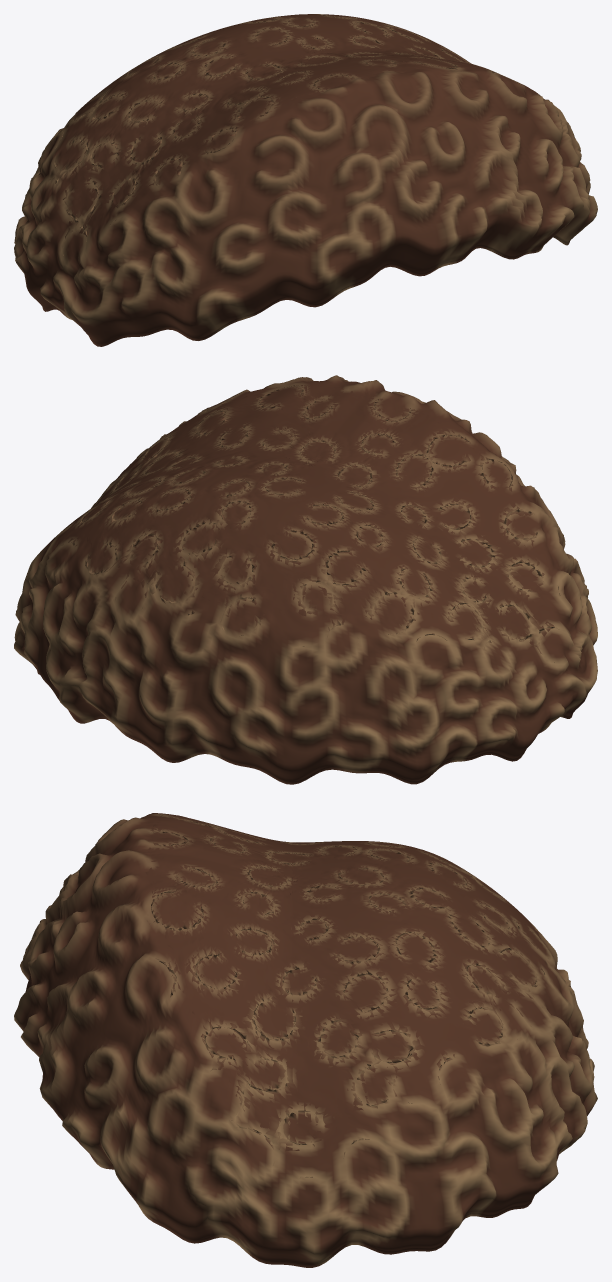
File: Highlights-6a5cc8c2790a251-hair.glb
The picture shows the model from 3 angles, top to bottom: view 1: azimuth 30°, elevation 25°; view 2: azimuth 150°, elevation 25°; view 3: azimuth 270°, elevation 25°; orthographic projection. The views are drawn at different scales.
Parts seen in each view (by area): view 1: 226 hair / Hair / sculpted afro251.001; view 2: 226 hair / Hair / sculpted afro251.001; view 3: 226 hair / Hair / sculpted afro251.001.
Part boxes in pixels (x1,y1,x2,y2): 226 hair / Hair / sculpted afro251.001: (14,14,597,346); 226 hair / Hair / sculpted afro251.001: (14,375,597,784); 226 hair / Hair / sculpted afro251.001: (14,813,597,1267).
Bounding box in the file's own units: 1.01 × 0.4552 × 0.8348.
